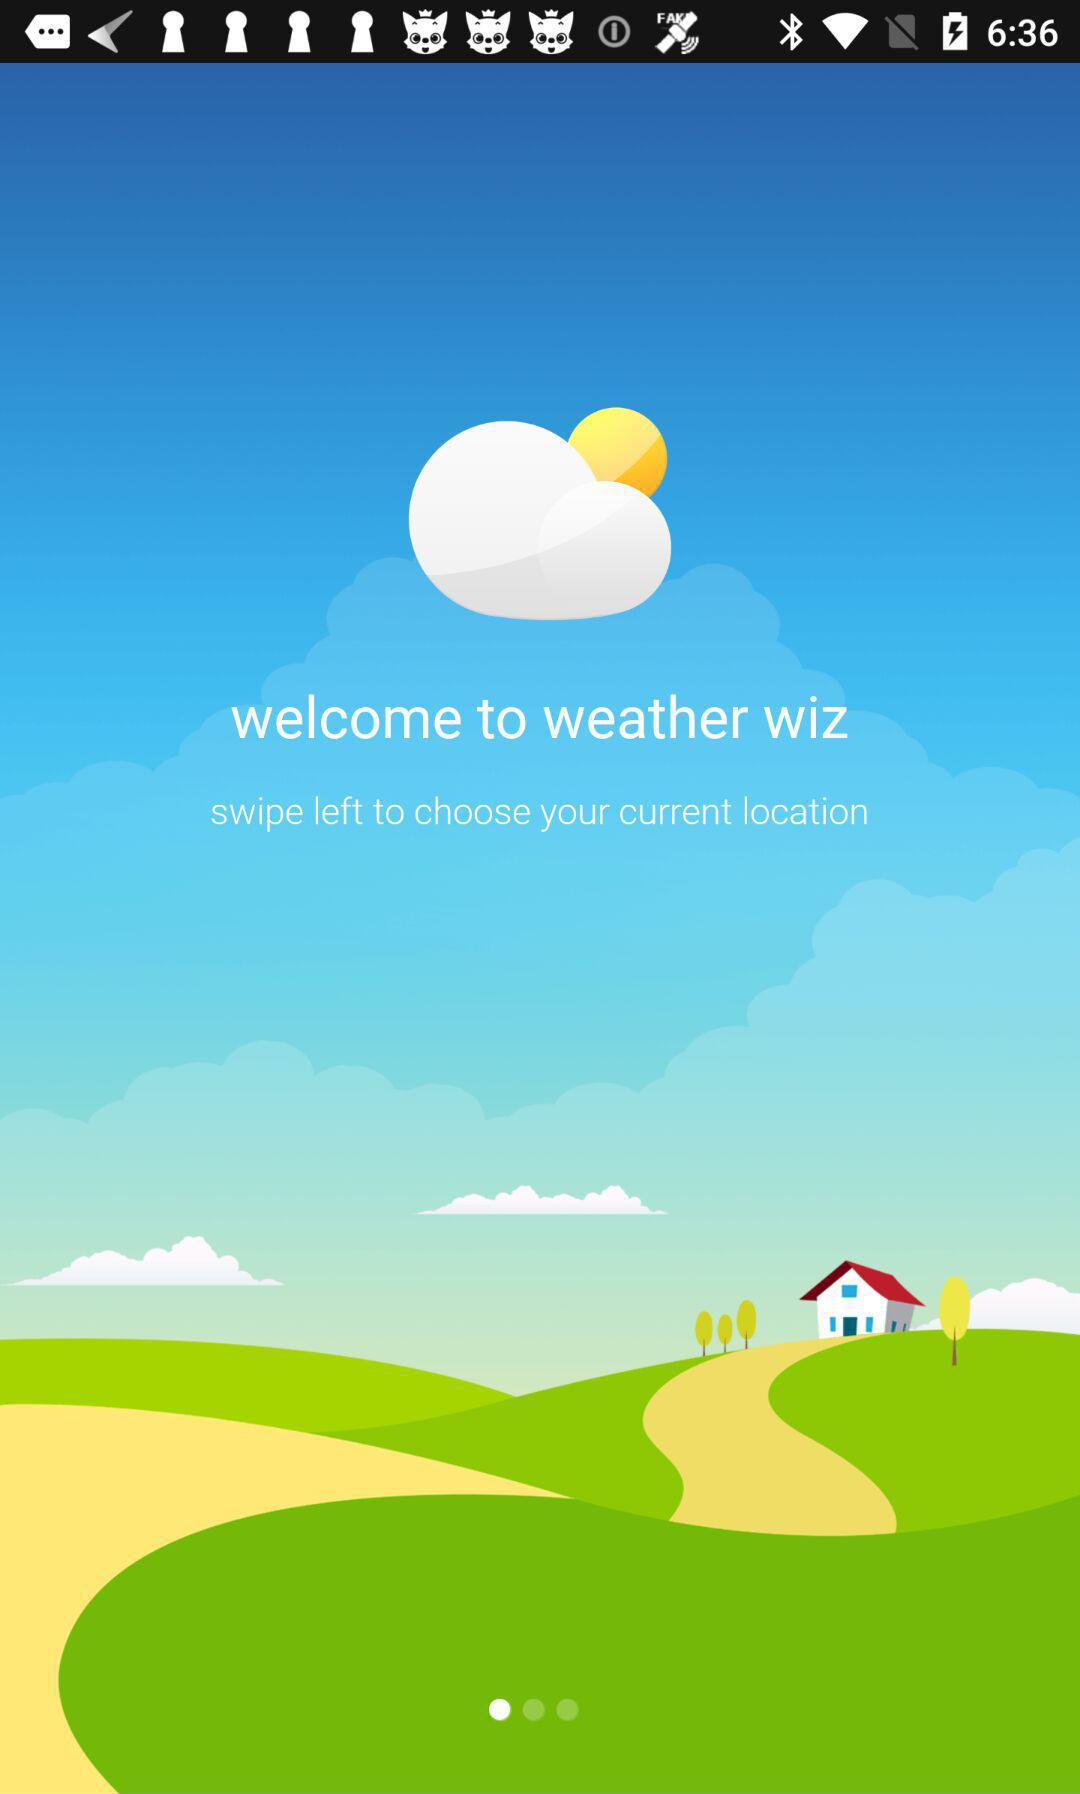BackgroundImage: (1, 64, 1080, 1794)
Image: (407, 406, 673, 623)
PageIndicator: (487, 1697, 582, 1724)
Text: (231, 693, 849, 742), (210, 794, 869, 835)
UpperTaskBar: (1, 1, 1080, 64)
